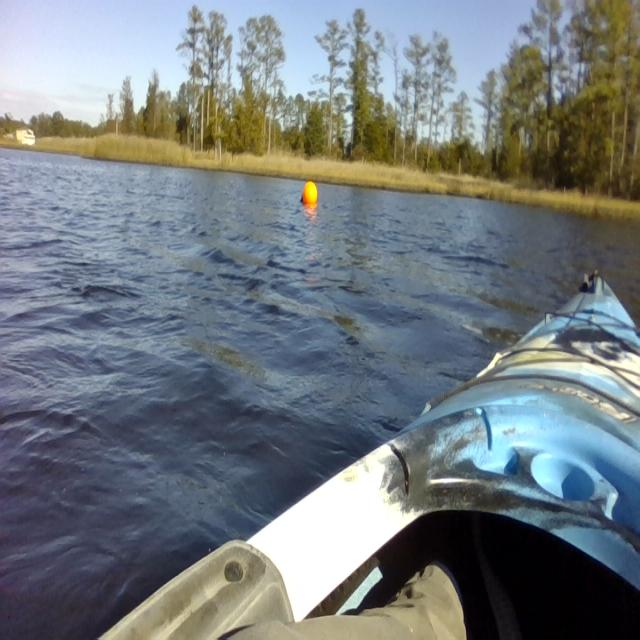Buoy: (298, 176, 320, 212)
